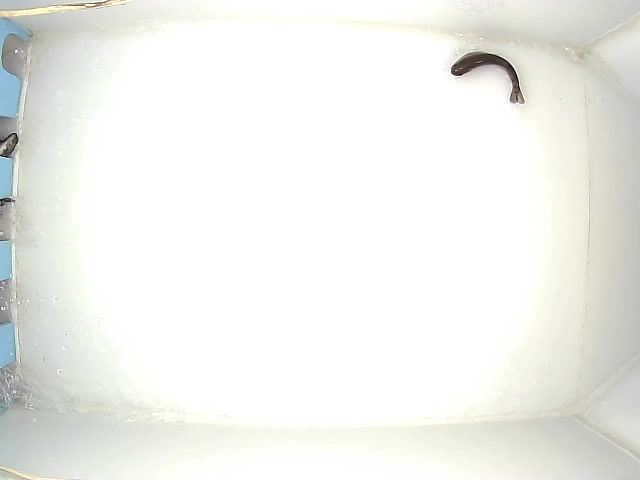fish: (451, 51, 525, 105)
